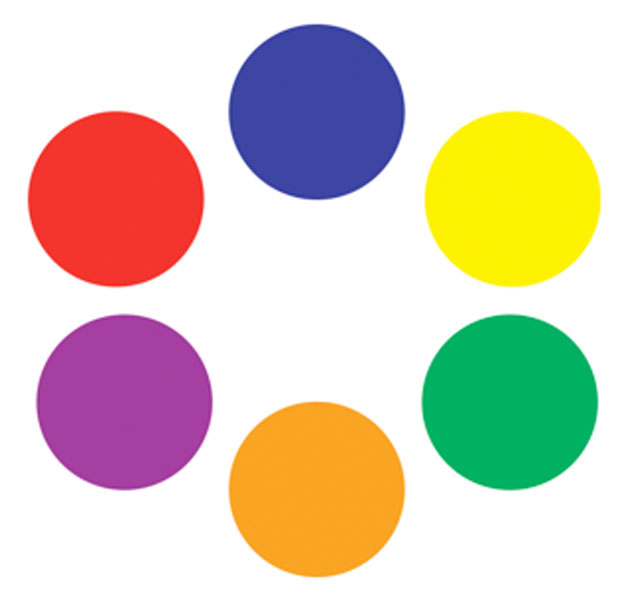circ: (23, 304, 223, 500), (225, 393, 417, 585), (422, 101, 611, 296), (220, 19, 412, 207), (23, 106, 214, 293), (418, 310, 605, 497)
